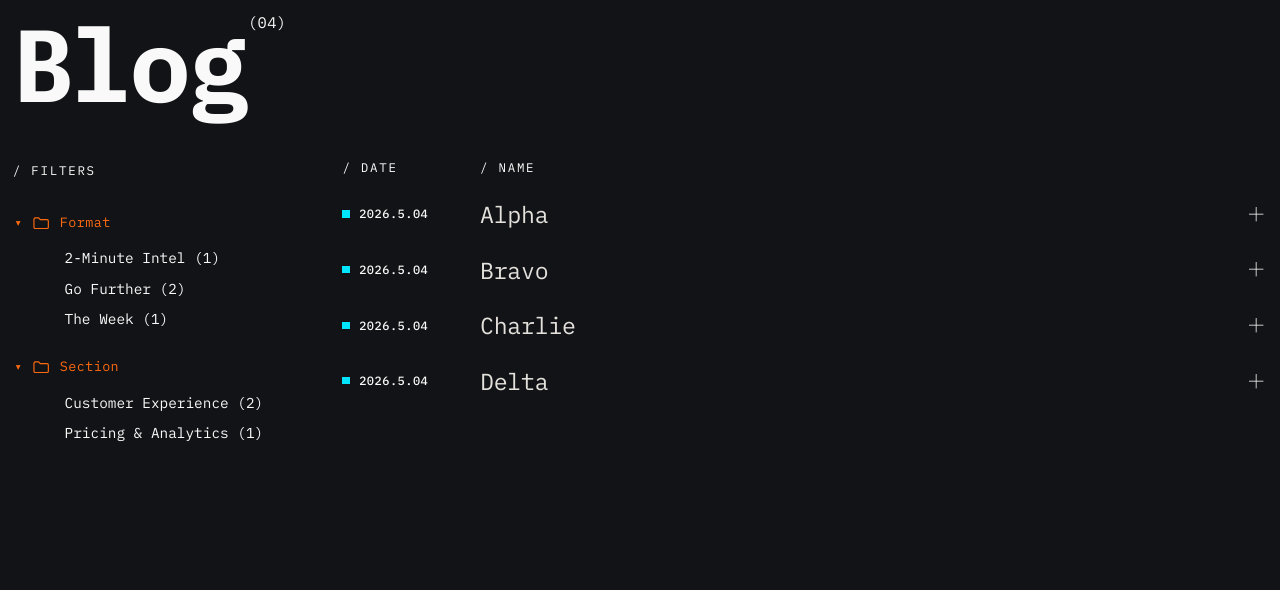
Test: NewsIndex › omits the drawer's section row when the post has no section
What coordinates should you click on to do the following:
click the button "2026.5.04 Delta"
I would click on:
 (394, 381)
Its box is [342, 353, 1267, 409].
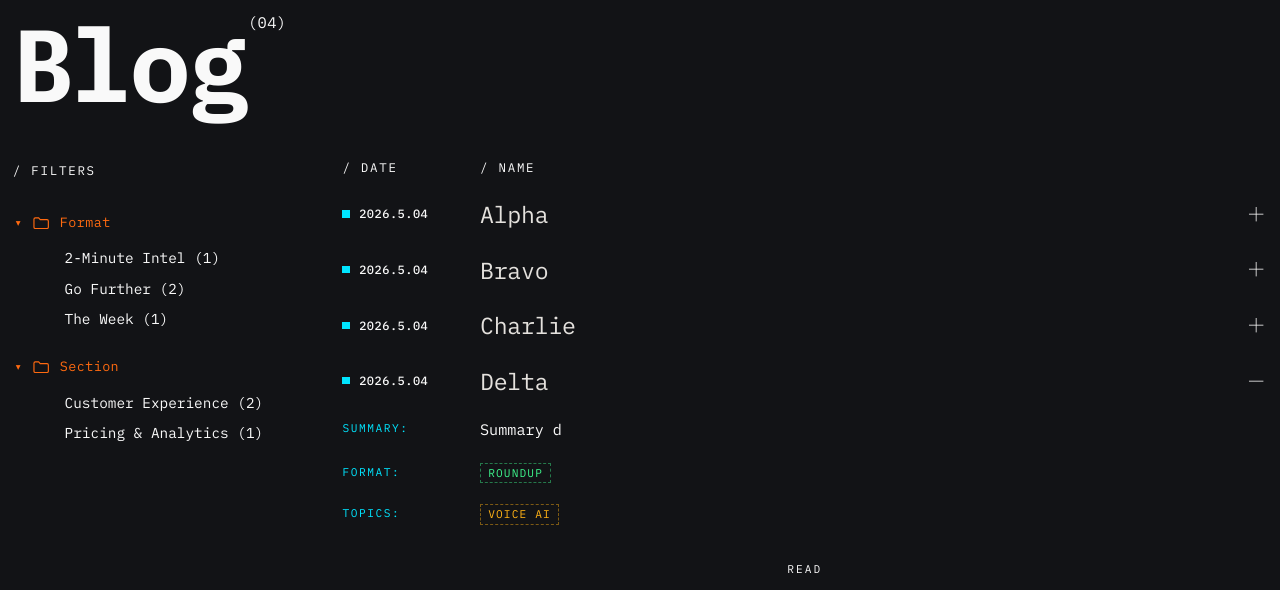
Now the text "Roundup" is shown, box [480, 462, 551, 483]
